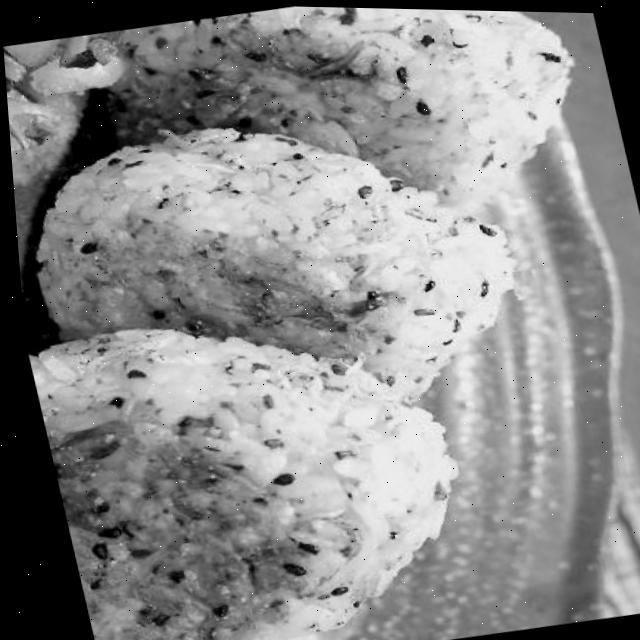米饭主食: (23, 76, 566, 517), (18, 286, 499, 640), (99, 2, 633, 307)
